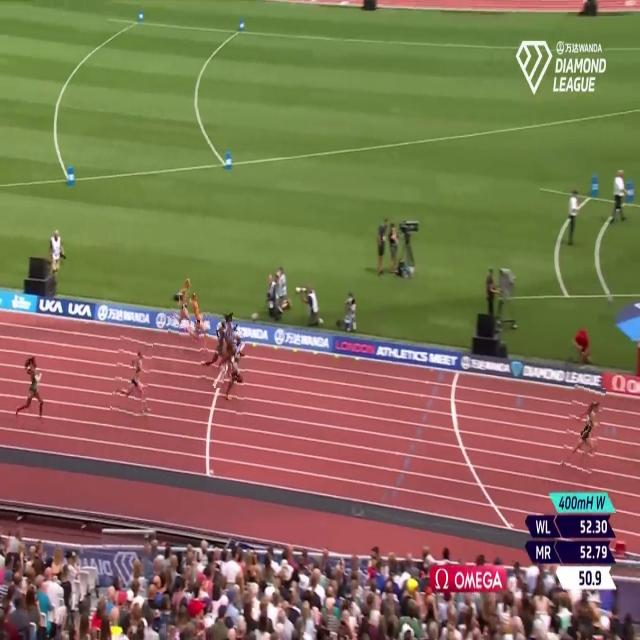athlete: (563, 384, 603, 478), (113, 335, 151, 416), (12, 350, 47, 428), (201, 306, 231, 388), (187, 286, 214, 367), (169, 269, 191, 344), (228, 330, 244, 415)
